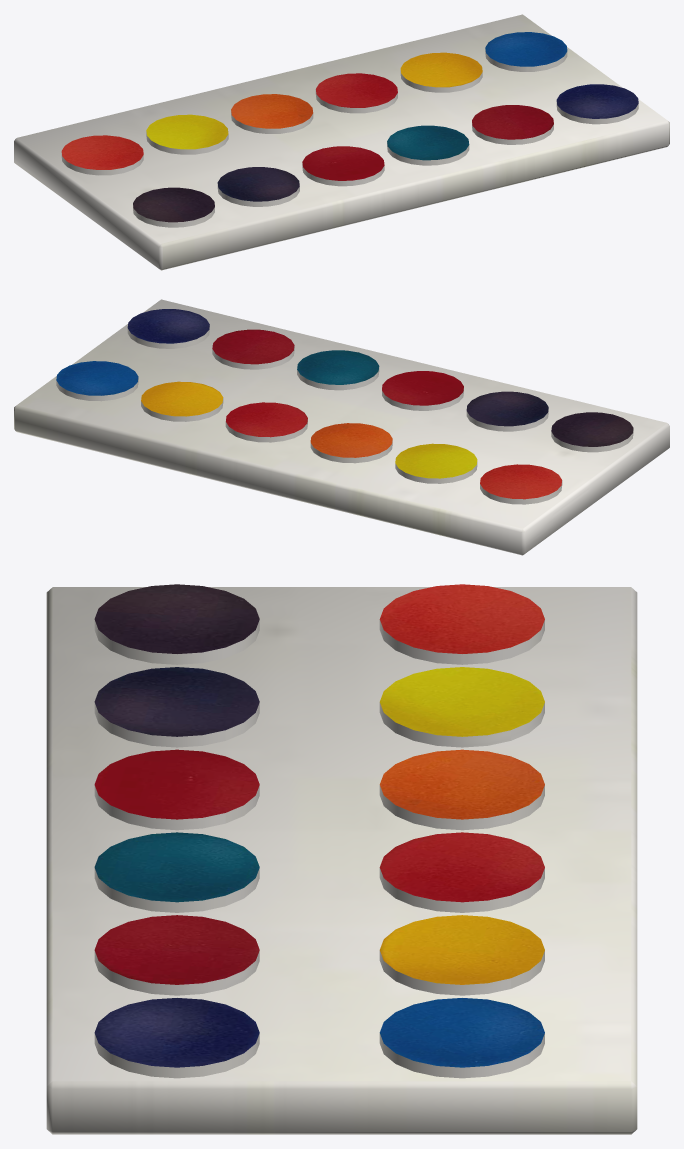
The model's file is Watercolours.fbx.
3 renders of one model, top to bottom at view 1: azimuth 30°, elevation 25°; view 2: azimuth 150°, elevation 25°; view 3: azimuth 270°, elevation 25°, orthographic. The views are drawn at different scales.
Visible parts, largest first — view 1: Watercolours; view 2: Watercolours; view 3: Watercolours.
Part boxes in pixels (x1,y1,x2,y2): Watercolours: (14, 14, 669, 270); Watercolours: (14, 299, 669, 555); Watercolours: (46, 584, 637, 1134).
Size of the model in its own units: 200 by 12 by 100.
Materials: 1 (1 with a texture image).
